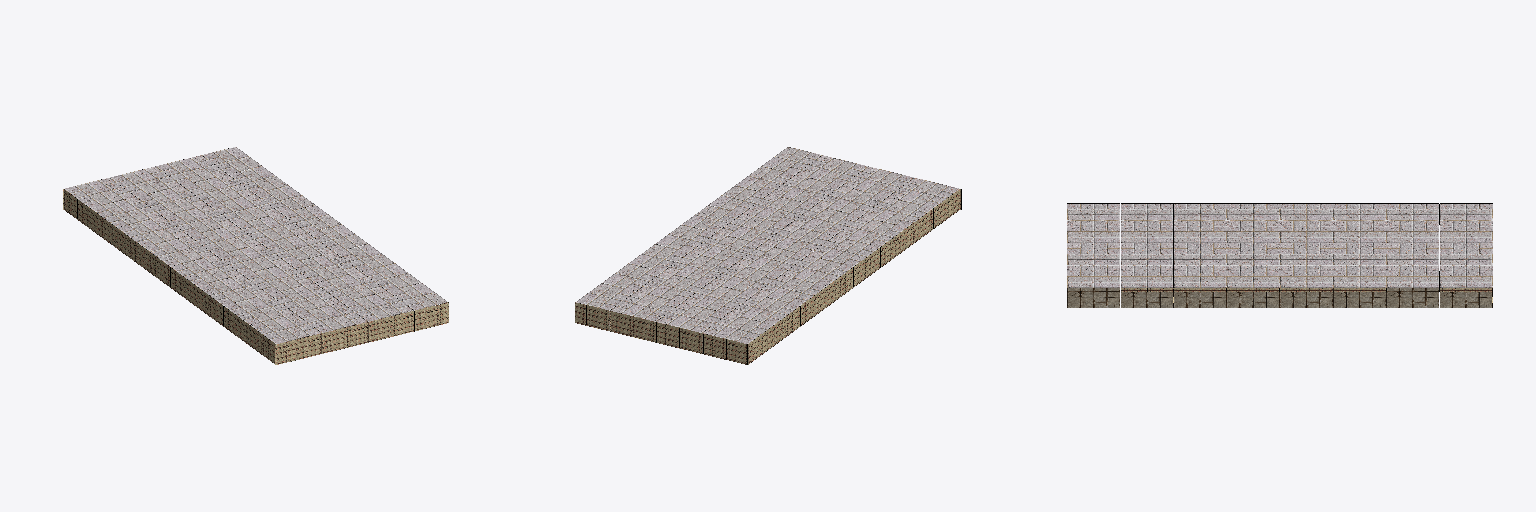
3 views of the same model, side by side, from view 1: azimuth 30°, elevation 25°; view 2: azimuth 150°, elevation 25°; view 3: azimuth 270°, elevation 25° (orthographic).
Visible parts, largest first — view 1: mesh35, mesh02, mesh04, mesh33, mesh03, mesh34, mesh01, mesh36, mesh37, mesh43, mesh06, mesh07 (+28 smaller); view 2: mesh40, mesh36, mesh35, mesh02, mesh44, mesh04, mesh33, mesh34, mesh03, mesh01, mesh08, mesh10 (+28 smaller); view 3: mesh13, mesh14, mesh15, mesh16, mesh45, mesh46, mesh47, mesh48, mesh09, mesh43, mesh42, mesh44 (+20 smaller).
Part boxes in pixels (left/top/right/bottom): mesh35: left=90, top=197, right=161, bottom=247; mesh02: left=223, top=294, right=294, bottom=345; mesh04: left=170, top=255, right=241, bottom=306; mesh33: left=144, top=236, right=214, bottom=285; mesh03: left=197, top=275, right=267, bottom=324; mesh34: left=117, top=216, right=188, bottom=266; mesh01: left=250, top=314, right=320, bottom=362; mesh36: left=65, top=178, right=134, bottom=228; mesh37: left=190, top=225, right=260, bottom=262; mesh43: left=183, top=175, right=253, bottom=220; mesh06: left=269, top=283, right=340, bottom=322; mesh07: left=243, top=264, right=313, bottom=303; mesh40: left=657, top=303, right=726, bottom=353; mesh36: left=703, top=314, right=773, bottom=364; mesh35: left=729, top=294, right=800, bottom=345; mesh02: left=862, top=197, right=933, bottom=247; mesh44: left=610, top=291, right=681, bottom=342; mesh04: left=809, top=236, right=879, bottom=285; mesh33: left=782, top=255, right=853, bottom=306; mesh34: left=756, top=275, right=826, bottom=325; mesh03: left=835, top=216, right=906, bottom=266; mesh01: left=889, top=178, right=958, bottom=228; mesh08: left=763, top=225, right=833, bottom=262; mesh10: left=770, top=175, right=840, bottom=220; mesh13: left=1067, top=271, right=1119, bottom=307; mesh14: left=1121, top=271, right=1173, bottom=307; mesh15: left=1174, top=271, right=1226, bottom=307; mesh16: left=1227, top=271, right=1279, bottom=307; mesh45: left=1280, top=271, right=1332, bottom=307; mesh46: left=1333, top=271, right=1385, bottom=307; mesh47: left=1386, top=271, right=1438, bottom=307; mesh48: left=1440, top=271, right=1492, bottom=307; mesh09: left=1067, top=248, right=1119, bottom=291; mesh43: left=1386, top=248, right=1438, bottom=291; mesh42: left=1333, top=248, right=1385, bottom=291; mesh44: left=1440, top=248, right=1492, bottom=291.
Bounding box in the file's own units: 3346 × 384 × 7062.
Materials: 1 (1 with a texture image).